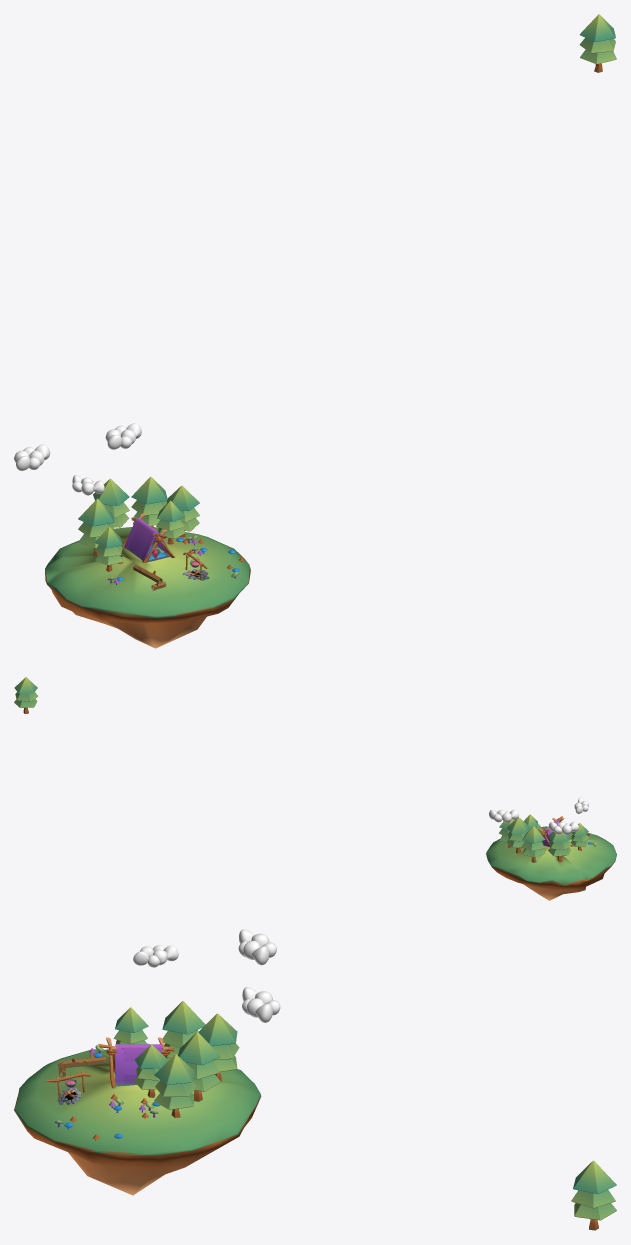
The model's file is ile_volante.glb.
3 renders of one model, top to bottom at view 1: azimuth 30°, elevation 25°; view 2: azimuth 150°, elevation 25°; view 3: azimuth 270°, elevation 25°, orthographic. The views are drawn at different scales.
Visible parts, largest first — view 1: ilot, Cylinder.006, Icosphere.002, Cylinder.004; view 2: ilot, Cylinder.006, Icosphere.002; view 3: ilot, Cylinder.006, Icosphere.002, Cylinder.004, Cone.005, Icosphere, Cone.004, Cylinder.028, Cone.003, Cylinder.014.
Boxes of the visible parts, bbox=[...] form: ilot: bbox=[45, 527, 250, 648]; Cylinder.006: bbox=[78, 476, 199, 571]; Icosphere.002: bbox=[14, 423, 141, 495]; Cylinder.004: bbox=[121, 513, 175, 562]; ilot: bbox=[486, 826, 616, 900]; Cylinder.006: bbox=[499, 814, 588, 862]; Icosphere.002: bbox=[489, 797, 588, 834]; ilot: bbox=[14, 1043, 261, 1195]; Cylinder.006: bbox=[113, 1001, 239, 1117]; Icosphere.002: bbox=[133, 929, 280, 1022]; Cylinder.004: bbox=[98, 1037, 174, 1088]; Cone.005: bbox=[573, 1160, 616, 1193]; Icosphere: bbox=[46, 1071, 90, 1105]; Cone.004: bbox=[571, 1190, 615, 1208]; Cylinder.028: bbox=[54, 1094, 160, 1141]; Cone.003: bbox=[574, 1203, 616, 1220]; Cylinder.014: bbox=[57, 1053, 106, 1077].
Bounding box in the file's own units: 9.4 × 4.08 × 5.48.
Materials: 2 (1 with a texture image).
